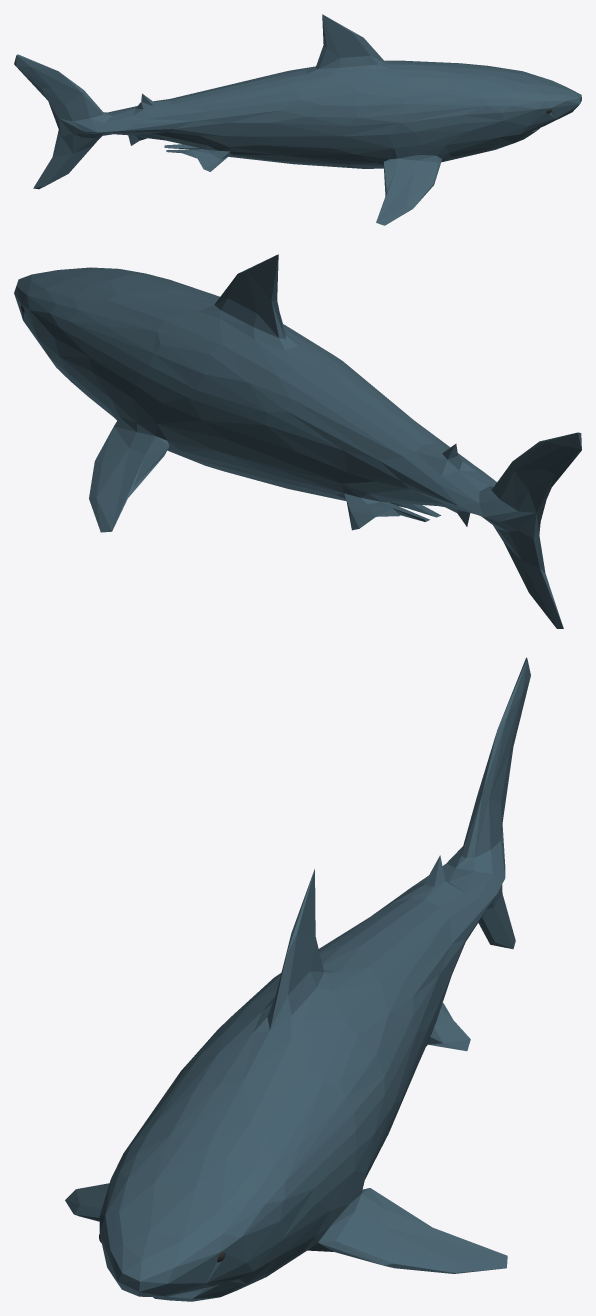
File: Shark.obj
The picture shows the model from 3 angles, top to bottom: view 1: azimuth 30°, elevation 25°; view 2: azimuth 150°, elevation 25°; view 3: azimuth 270°, elevation 25°; orthographic projection. The views are drawn at different scales.
Parts seen in each view (by area): view 1: Shark.2; view 2: Shark.2; view 3: Shark.2.
Part boxes in pixels (<box>): Shark.2: <box>14,14,581,225</box>; Shark.2: <box>14,254,581,628</box>; Shark.2: <box>65,657,530,1301</box>.
Size of the model in its own units: 475 by 160 by 204.
